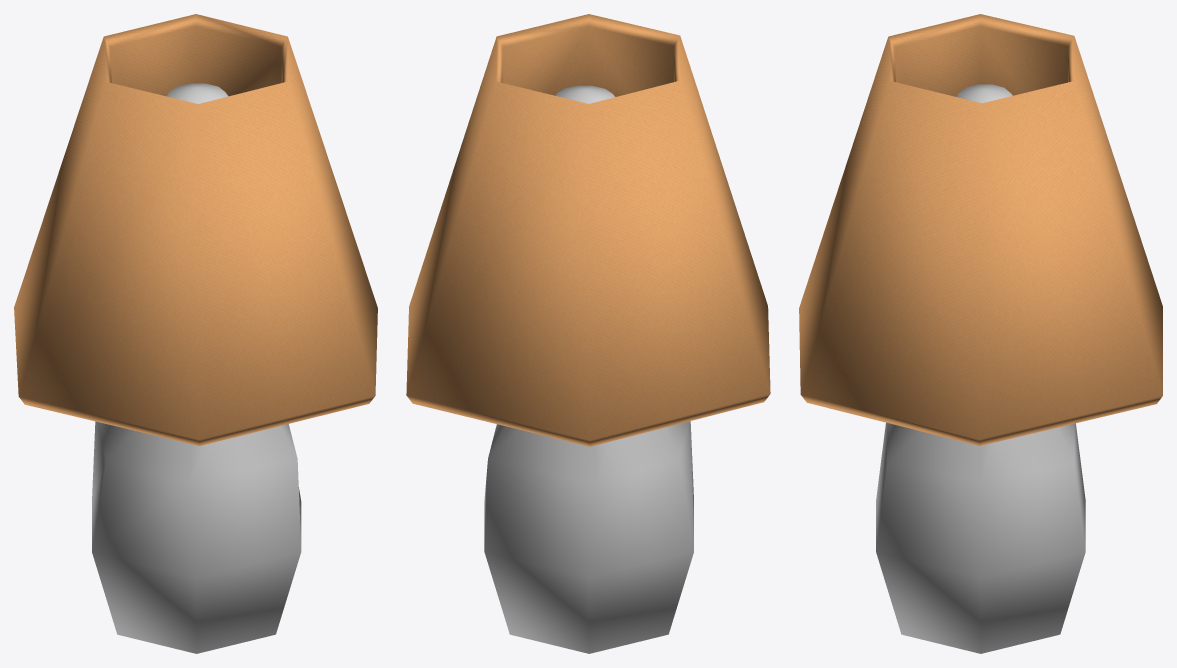
Rendered from Small_Lamp_D.FBX.
3 renders of one model, left to right at view 1: azimuth 30°, elevation 25°; view 2: azimuth 150°, elevation 25°; view 3: azimuth 270°, elevation 25°, orthographic.
Visible parts, largest first — view 1: Kid's Lamp; view 2: Kid's Lamp; view 3: Kid's Lamp.
Boxes of the visible parts, x1,y1,x2,y2 form: Kid's Lamp: (14, 14, 377, 653); Kid's Lamp: (406, 14, 770, 653); Kid's Lamp: (799, 14, 1162, 653).
Size of the model in its own units: 68.11 by 100 by 59.49.
